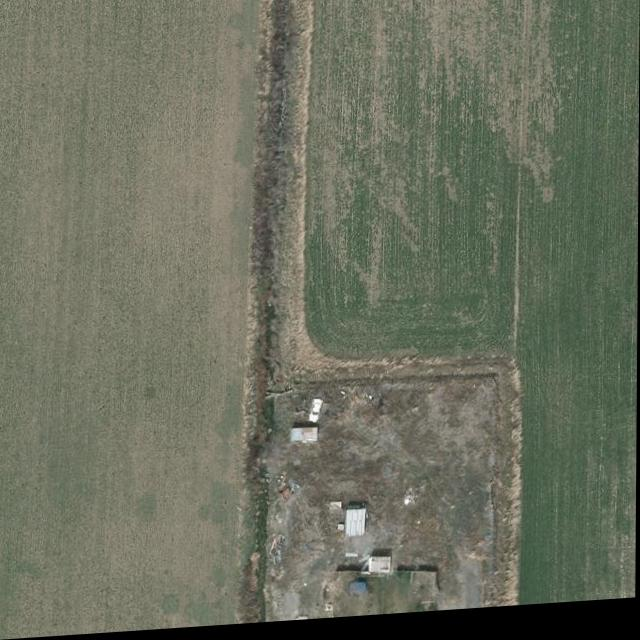vehicle: (309, 403, 324, 429)
